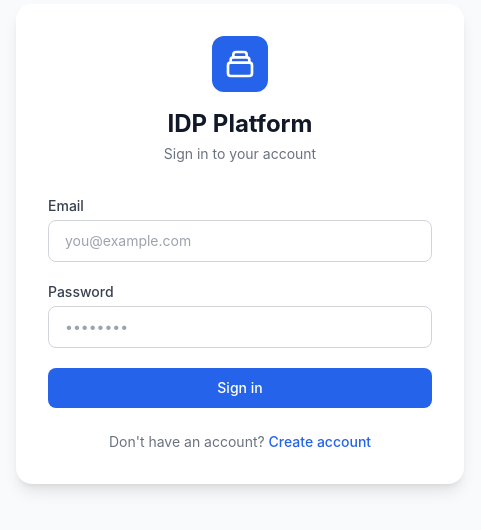
it: LoginPage › shows validation error for invalid email
Note: Submit with empty email to trigger validation
Click the button "Sign in".
click(240, 388)  # box x1=48 y1=368 x2=432 y2=408
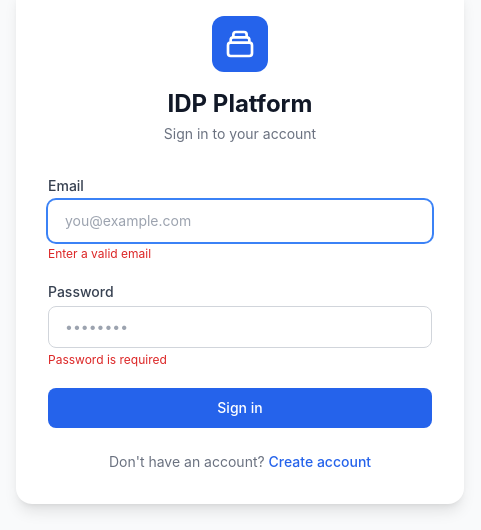
expect the text "Enter a valid email" is shown: met, box x1=48 y1=246 x2=151 y2=261
